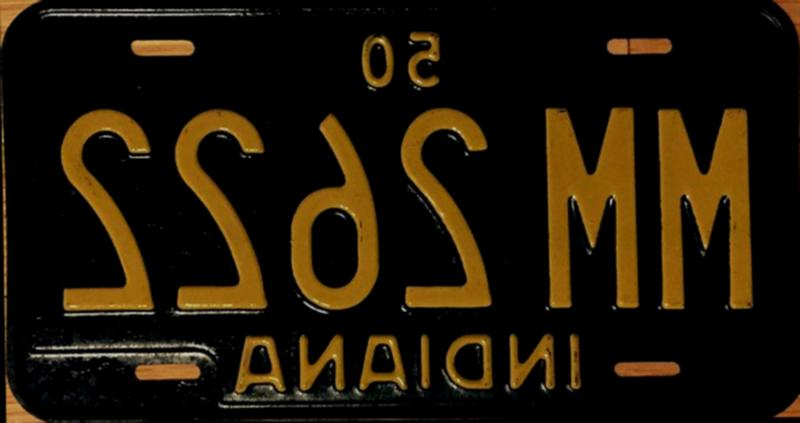License_Plate: (17, 13, 778, 405)
